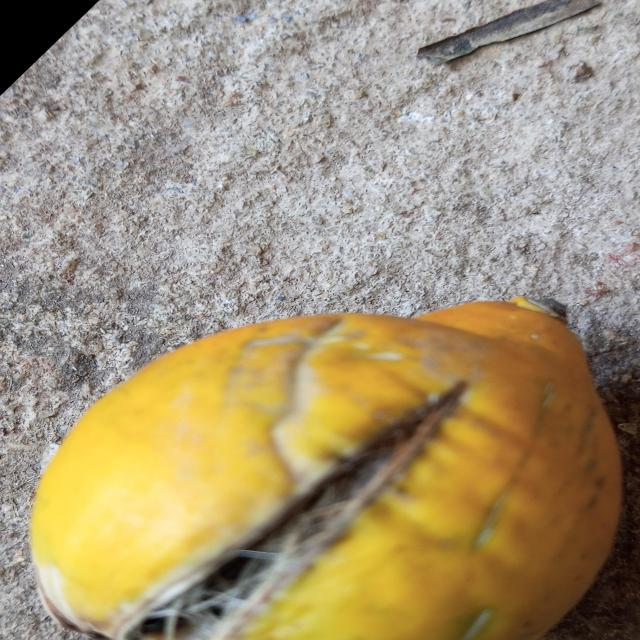damaged: (28, 298, 623, 640)
